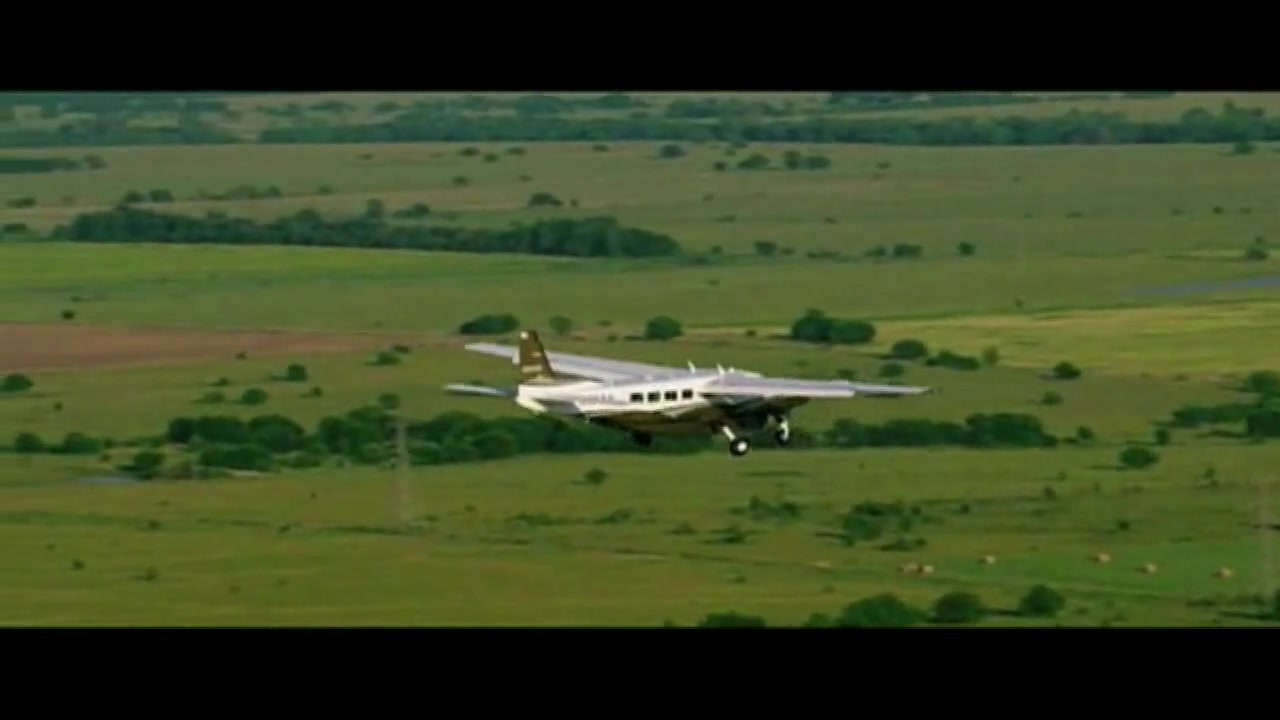aeroplane: (439, 336, 941, 465)
